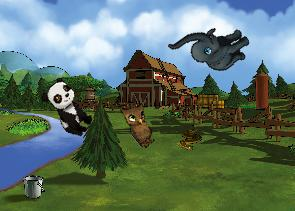elephant: (167, 4, 256, 90)
owl: (115, 96, 166, 150)
panda: (37, 75, 99, 141)
